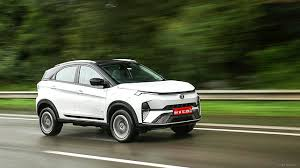Tata Nexon: (33, 57, 201, 143)
